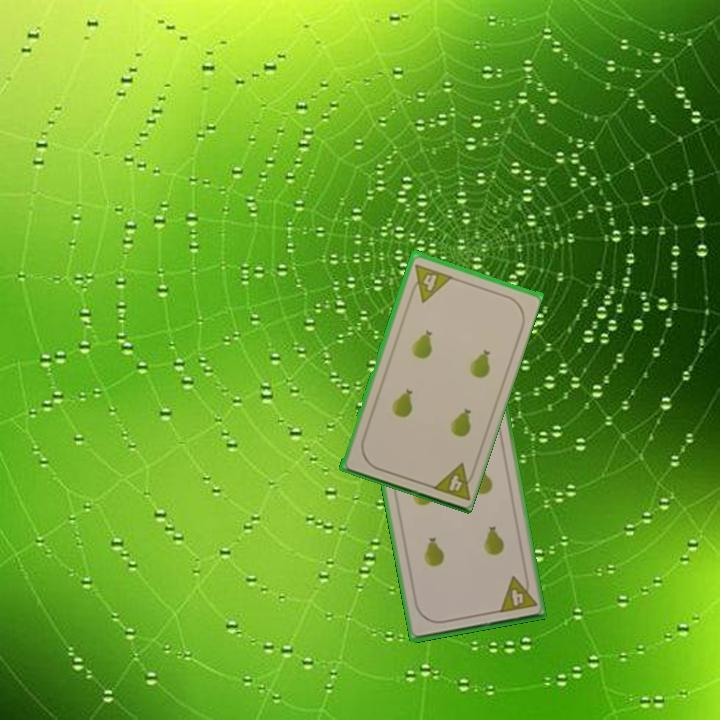4p: (427, 459, 479, 503), (406, 260, 454, 304), (495, 571, 539, 616)
